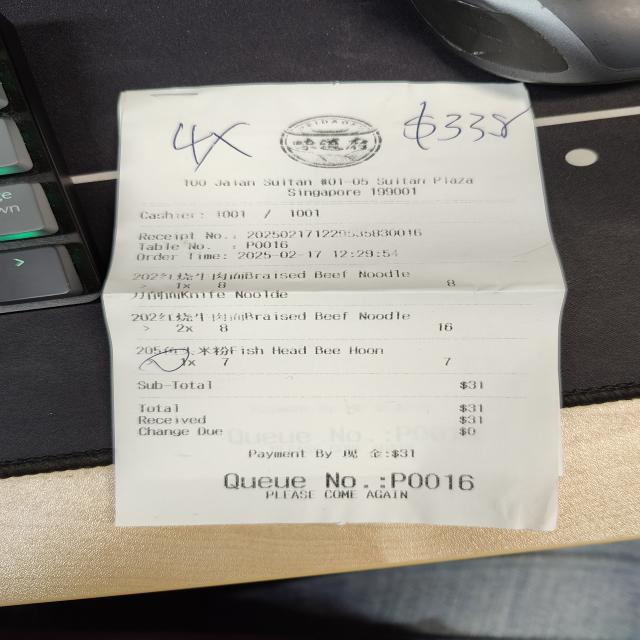bill_region: (117, 266, 511, 442)
